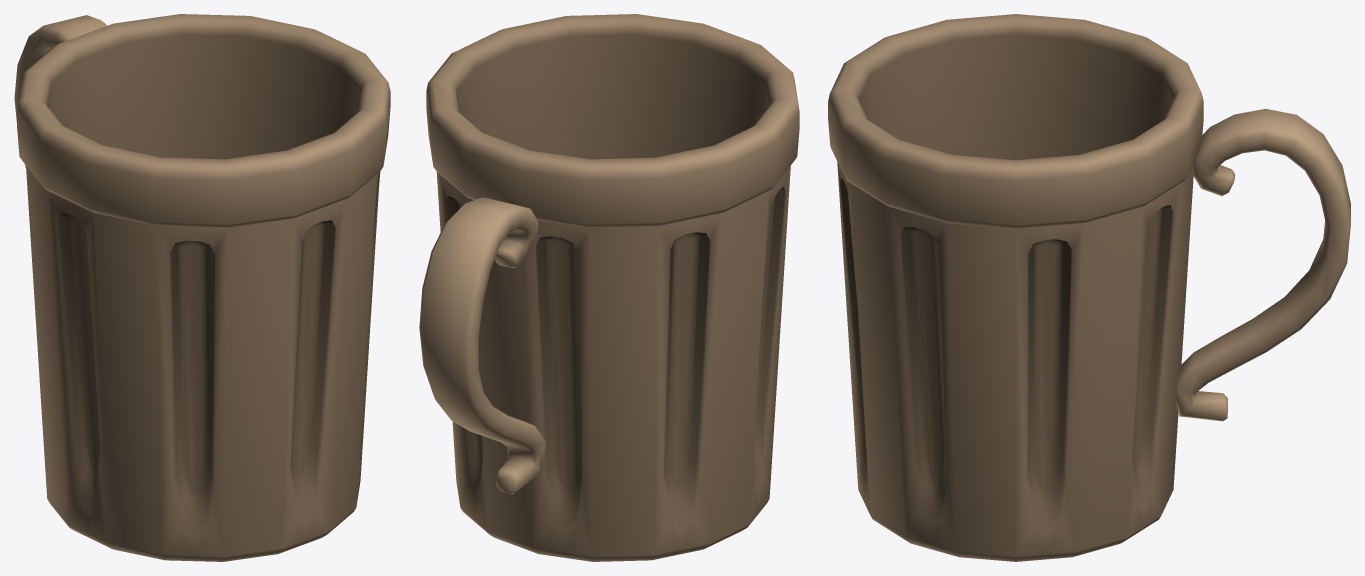
Rendered from Cup-Mug_01.fbx.
The picture shows the model from 3 angles, left to right: view 1: azimuth 30°, elevation 25°; view 2: azimuth 150°, elevation 25°; view 3: azimuth 270°, elevation 25°; orthographic projection.
Parts seen in each view (by area): view 1: Cup-Mug_01; view 2: Cup-Mug_01; view 3: Cup-Mug_01.
Part boxes in pixels (bbox=[...]): Cup-Mug_01: bbox=[14, 14, 390, 561]; Cup-Mug_01: bbox=[419, 14, 799, 561]; Cup-Mug_01: bbox=[828, 14, 1350, 561].
Size of the model in its own units: 417 by 504 by 580.
